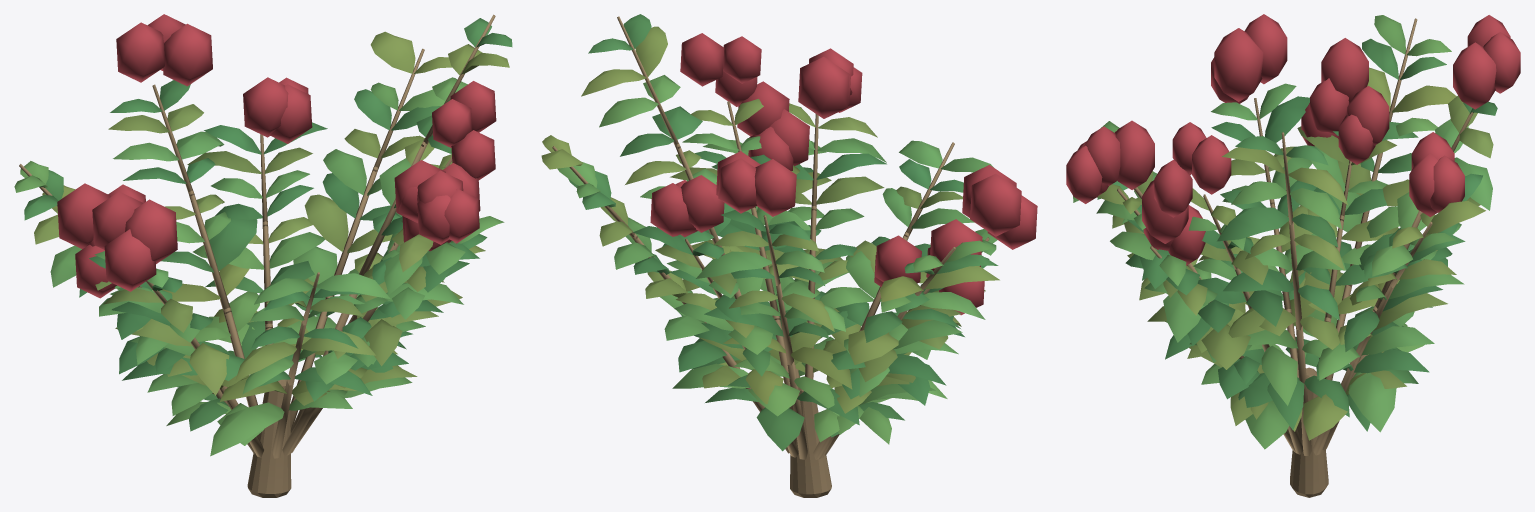
The model's file is bush_berry.4c68c0d4.glb.
3 renders of one model, left to right at view 1: azimuth 30°, elevation 25°; view 2: azimuth 150°, elevation 25°; view 3: azimuth 270°, elevation 25°, orthographic. The views are drawn at different scales.
Visible parts, largest first — view 1: bush_berry; view 2: bush_berry; view 3: bush_berry.
Part boxes in pixels (bbox=[...]): bush_berry: bbox=[14, 14, 512, 497]; bush_berry: bbox=[541, 14, 1037, 497]; bush_berry: bbox=[1066, 14, 1520, 497].
Bounding box in the file's own units: 1.22 × 1.11 × 0.9753.
